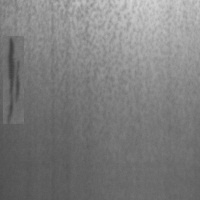inclusion: (3, 36, 24, 124)
pitted_surface: (2, 3, 198, 128)
